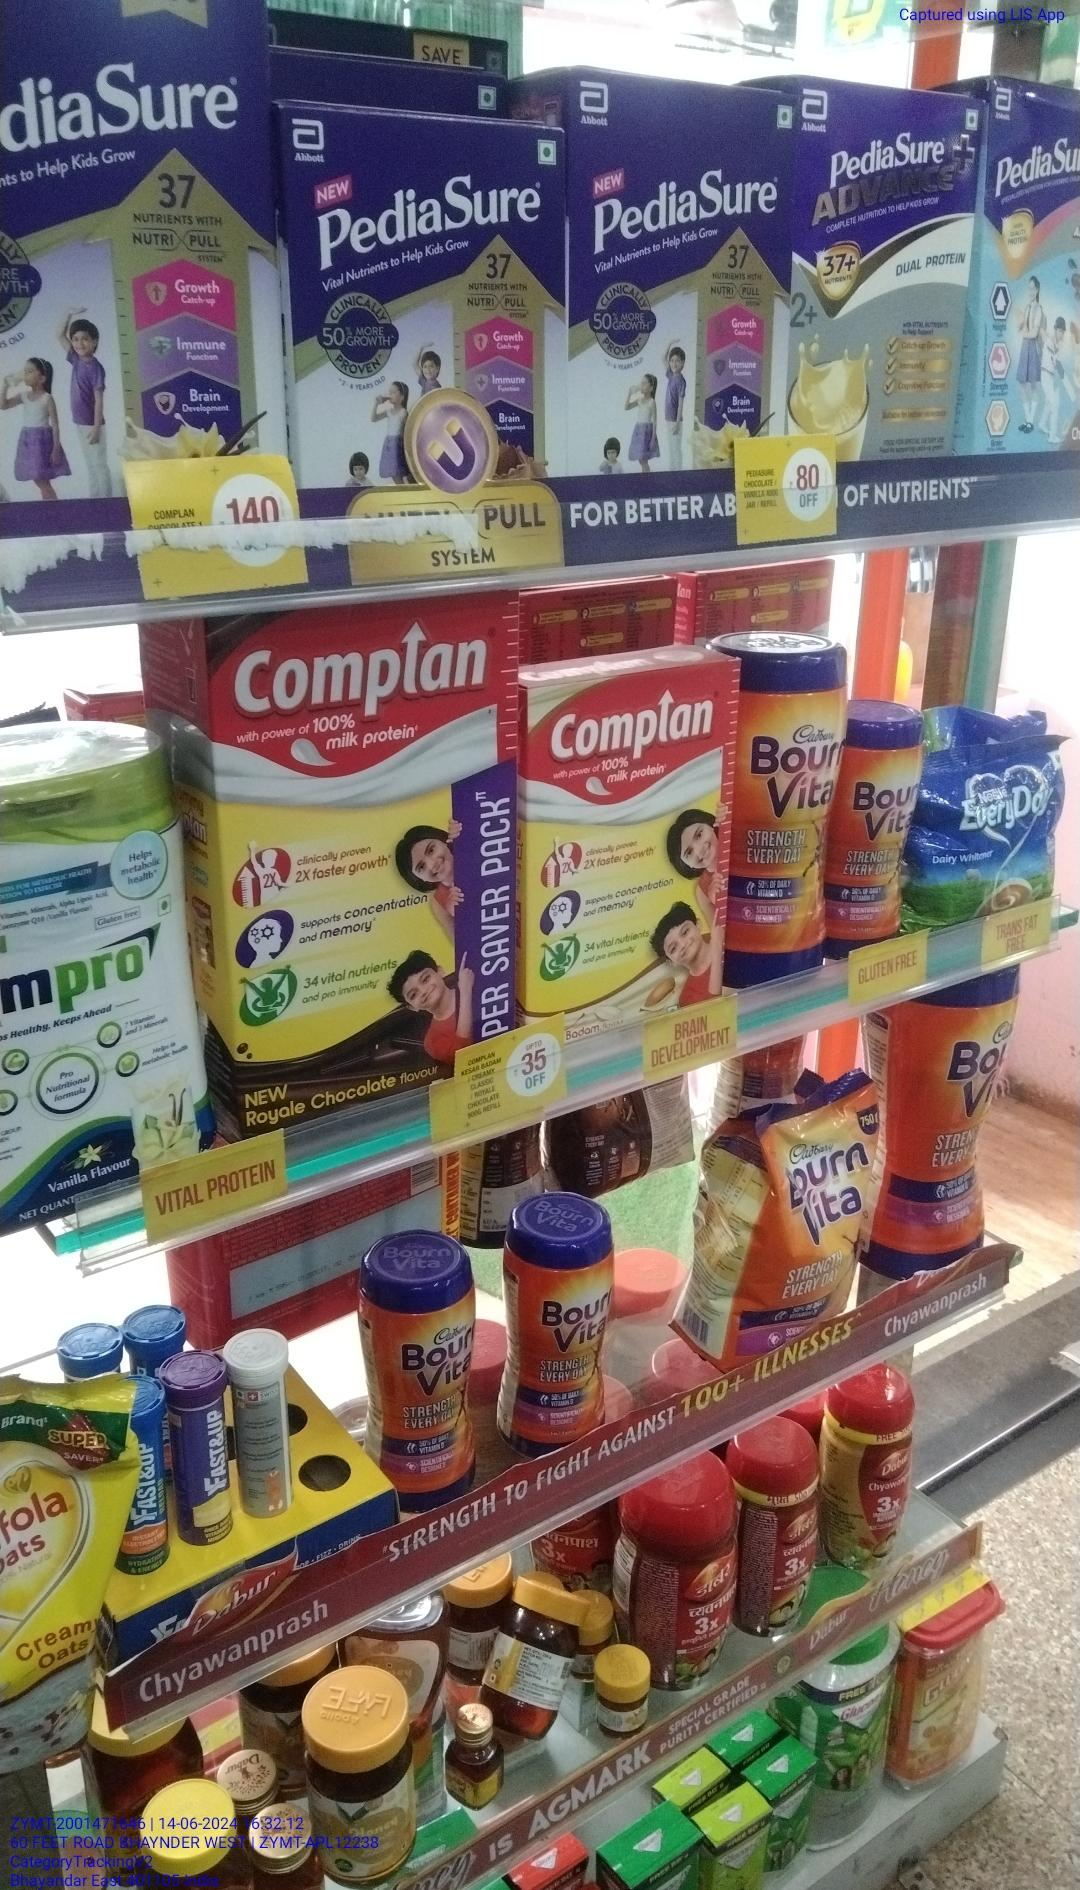BOURN_VITA_1_KG_JAR: (885, 996, 990, 1254)
BOURN_VITA_200_G_JAR: (370, 1249, 478, 1495), (510, 1209, 611, 1432), (846, 709, 922, 935)
BOURN_VITA_500_G_JAR: (748, 639, 842, 970)
BOURN_VITA_750_G_POUCH: (719, 1077, 875, 1341)
COMPLAN_CHOCOLATE_1_KG_PACK: (215, 617, 515, 1037)
COMPLAN_KESAR_BADAM_500_GMS_PACK: (527, 666, 742, 996)
PEDIASURE_VANILLA_500_G_PACK: (571, 64, 780, 440)
